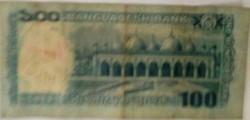100 taka: (4, 3, 240, 118)
